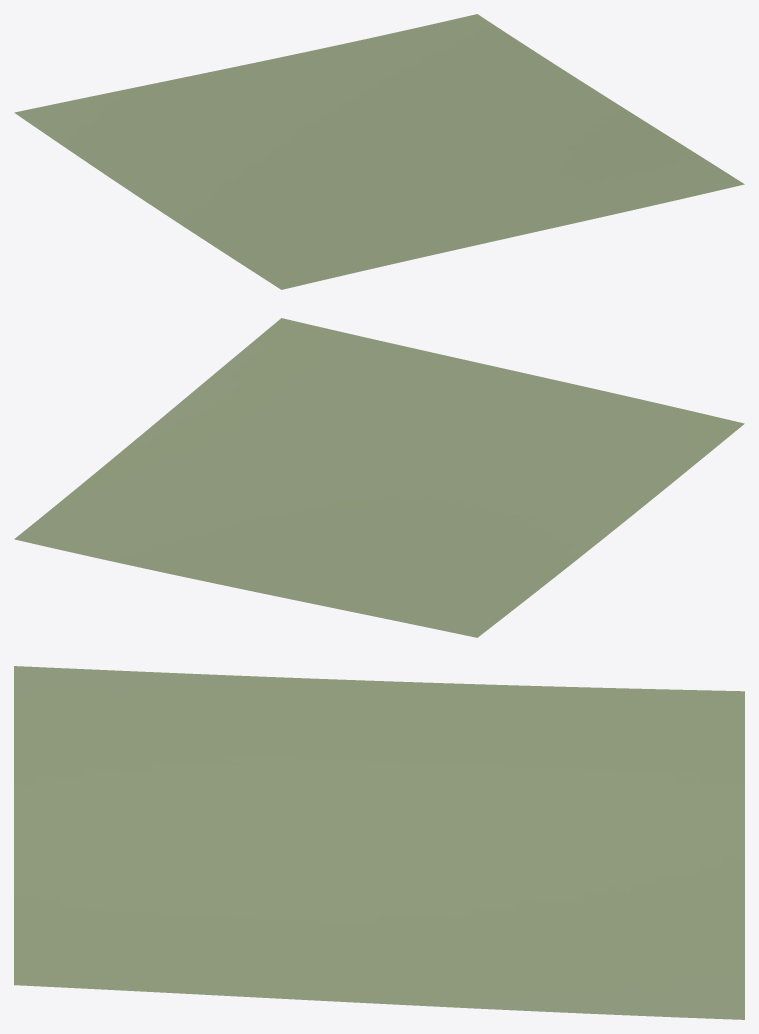
The model's file is expanse-2-9.glb.
3 views of the same model, one above another, from view 1: azimuth 30°, elevation 25°; view 2: azimuth 150°, elevation 25°; view 3: azimuth 270°, elevation 25° (orthographic). The views are drawn at different scales.
Visible parts, largest first — view 1: expanse-2-9; view 2: expanse-2-9; view 3: expanse-2-9.
Boxes of the visible parts, left/top/right/bottom form: expanse-2-9: left=14, top=14, right=744, bottom=289; expanse-2-9: left=14, top=318, right=744, bottom=637; expanse-2-9: left=14, top=666, right=744, bottom=1019.
Bounding box in the file's own units: 256 × 17.39 × 256.
